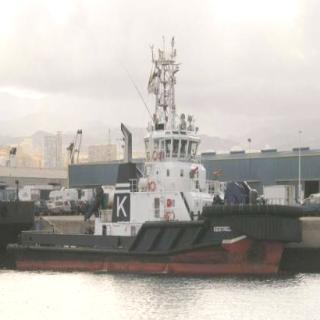Tug Boat: (10, 53, 320, 270)
